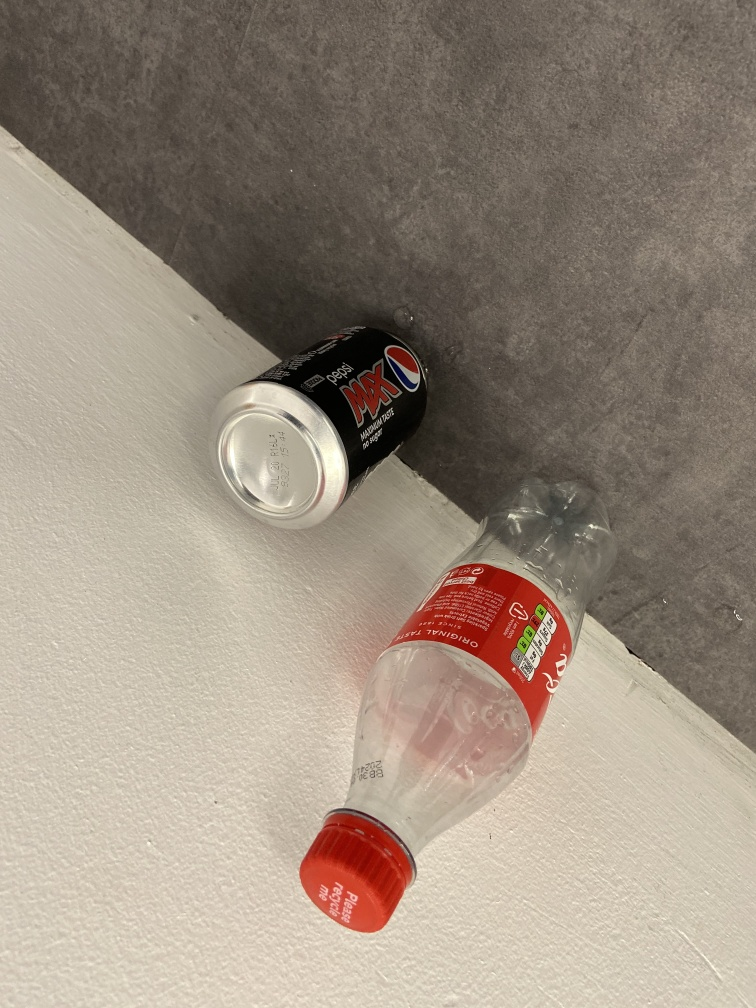bottle_red: (296, 469, 625, 936)
can_black: (210, 321, 437, 531)
